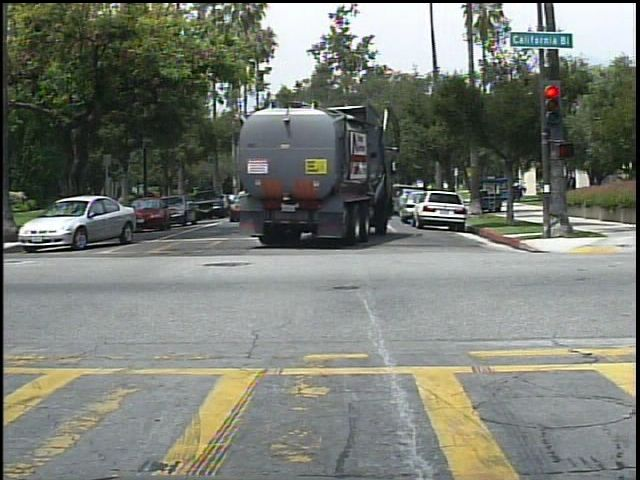car: (18, 195, 138, 250), (415, 188, 467, 232), (132, 195, 167, 233), (195, 190, 225, 219), (168, 193, 194, 223)
